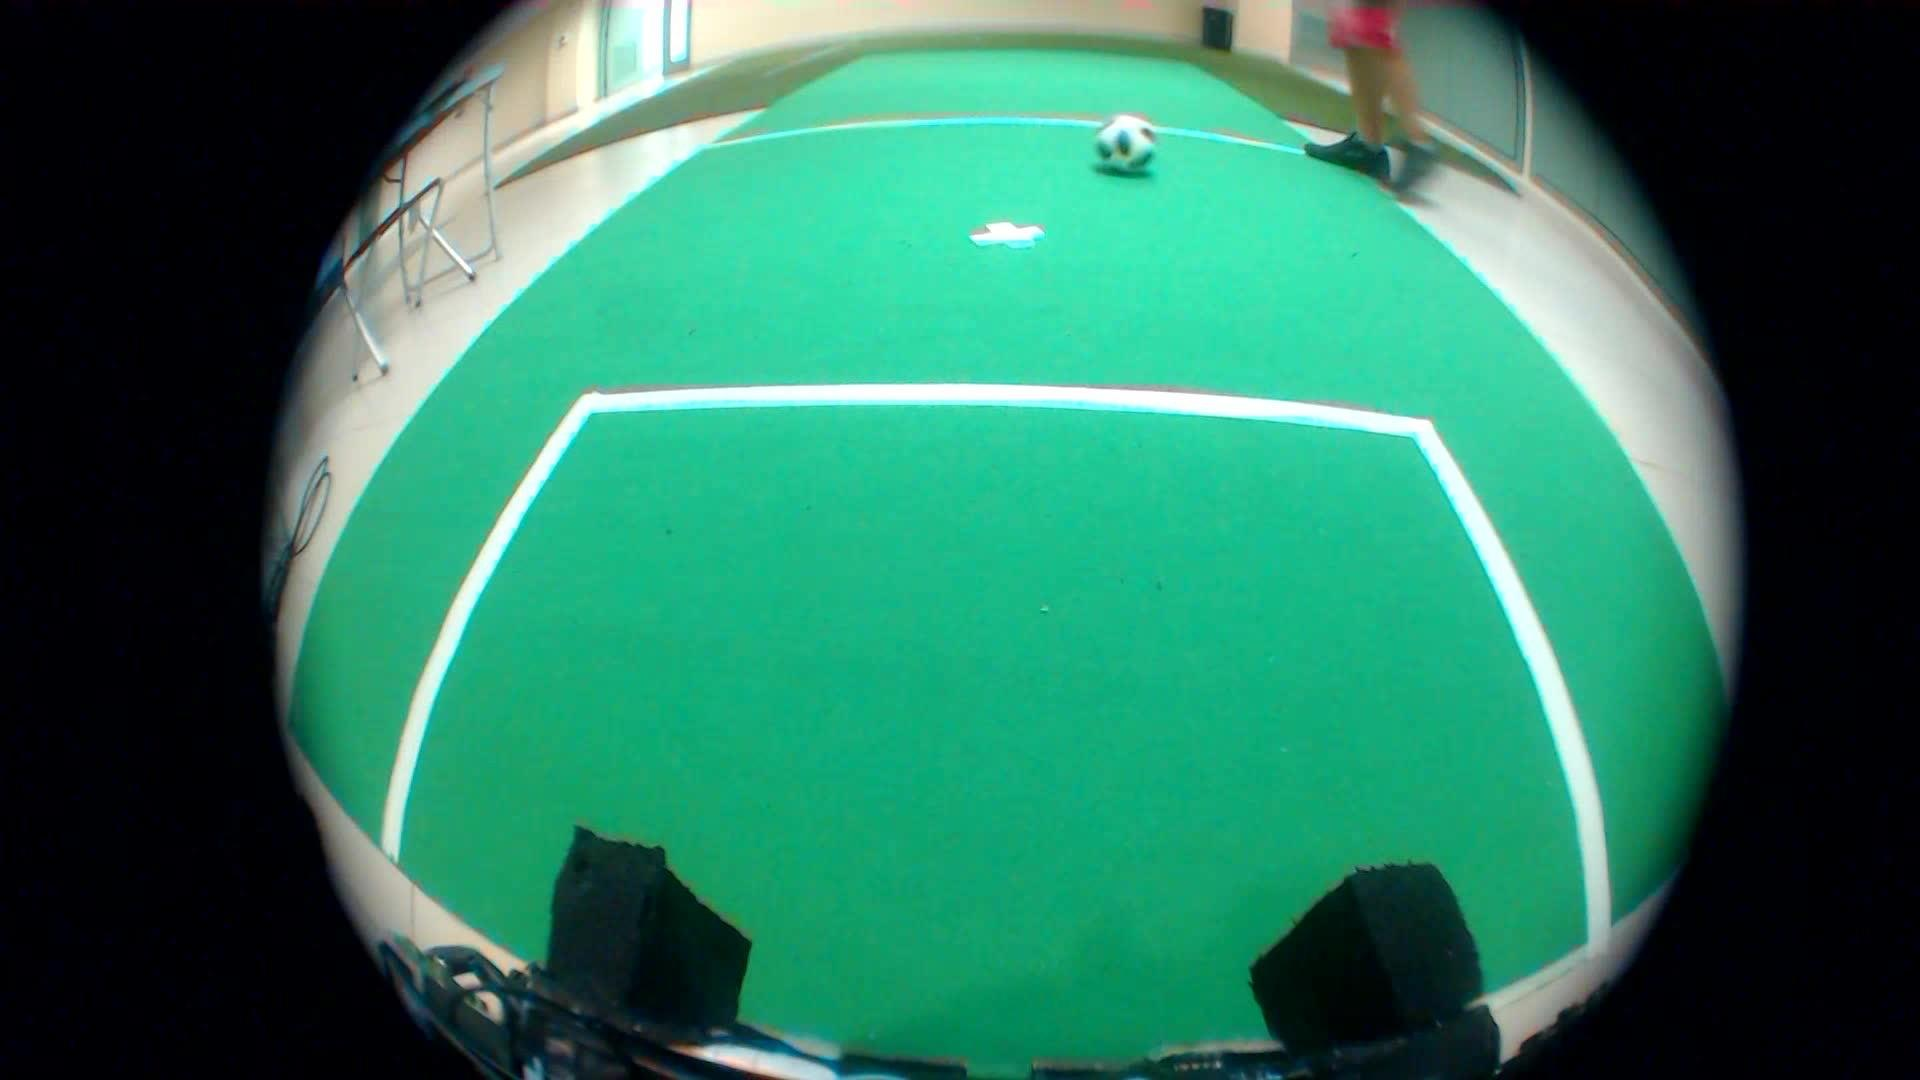ball: (1076, 104, 1164, 189)
